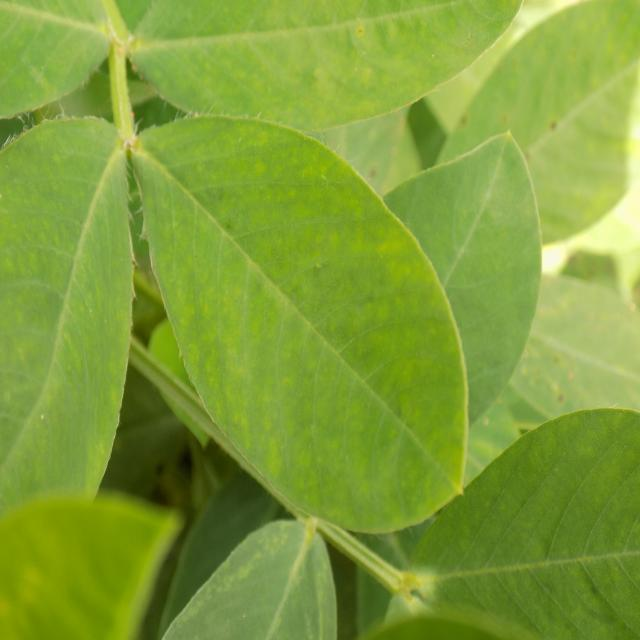Ground nut_healthy: (137, 115, 464, 530), (308, 125, 544, 518)
